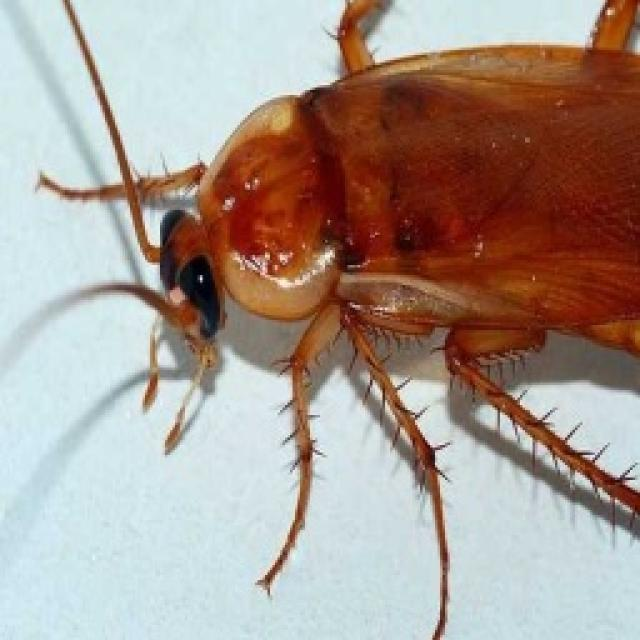cockroach: (24, 3, 637, 635)
